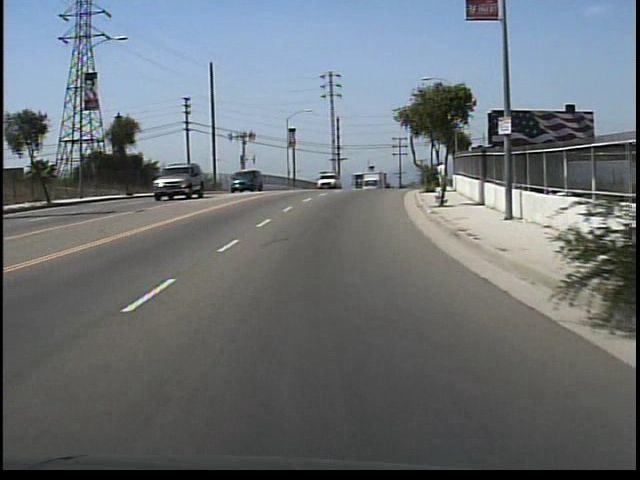person: (435, 159, 451, 194)
